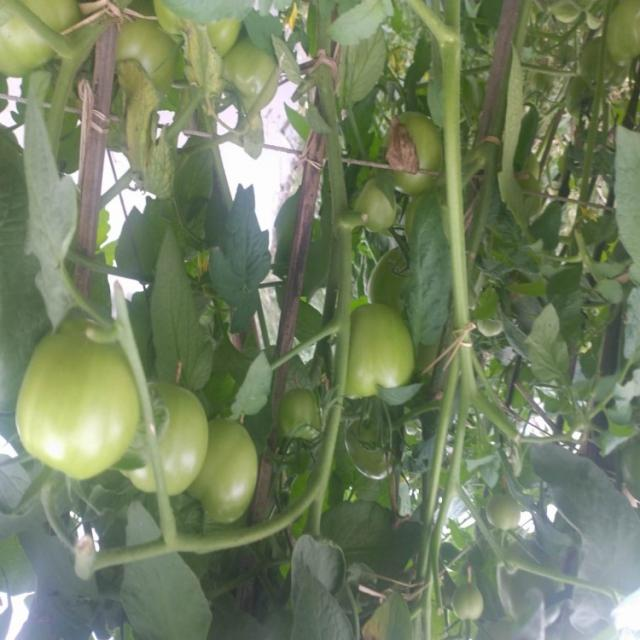tomato: (17, 323, 141, 477), (131, 371, 222, 500), (327, 299, 425, 405), (192, 413, 279, 516), (97, 19, 190, 110), (1, 1, 88, 93), (220, 46, 298, 133), (394, 106, 453, 202), (335, 416, 397, 482), (269, 381, 328, 442), (351, 176, 408, 232), (481, 486, 539, 531), (605, 1, 640, 72), (445, 581, 492, 629)
